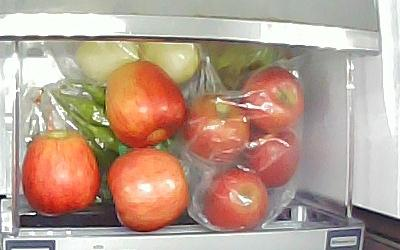apple: (105, 59, 188, 150), (108, 149, 191, 232), (21, 133, 101, 216)
apple_vinyl: (186, 93, 250, 164), (242, 65, 306, 133), (202, 167, 269, 231), (243, 130, 301, 187)
